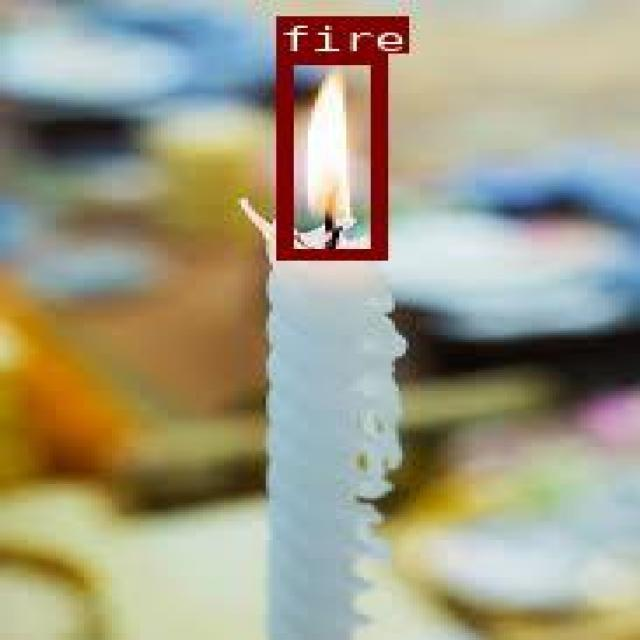fire: (273, 51, 381, 256)
